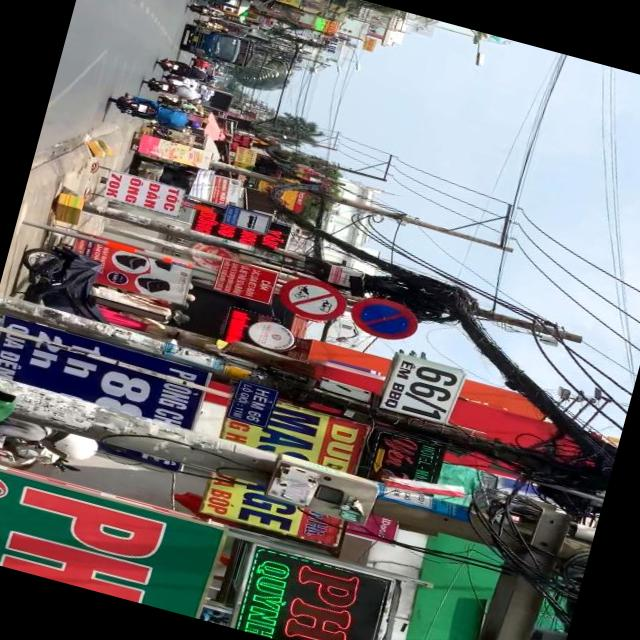P-131a: (348, 293, 422, 347)
